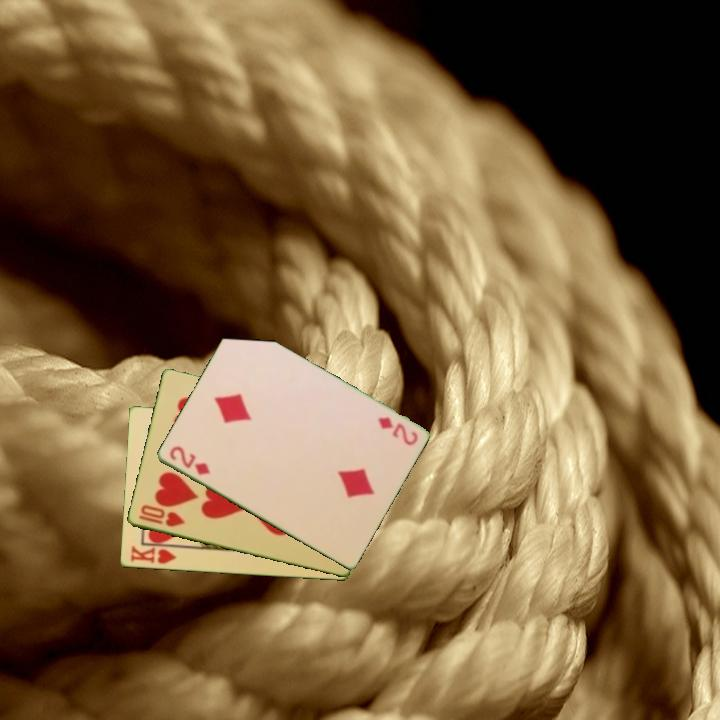10h: (135, 502, 188, 530)
2d: (165, 442, 213, 478), (374, 414, 420, 449)
Kh: (127, 542, 183, 567)
